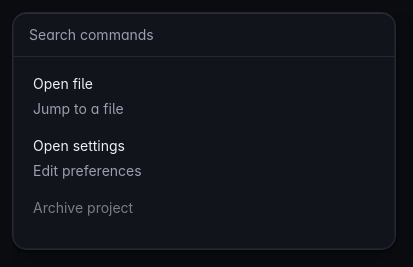
Test: ArchCommand › renders an empty state when no command matches
In the search field with placeholder "Search commands": (204, 35) [13, 13, 395, 57], type "deploy"
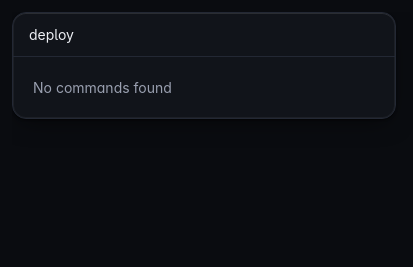
Now the message "No commands found" is shown, box [33, 79, 172, 96]
